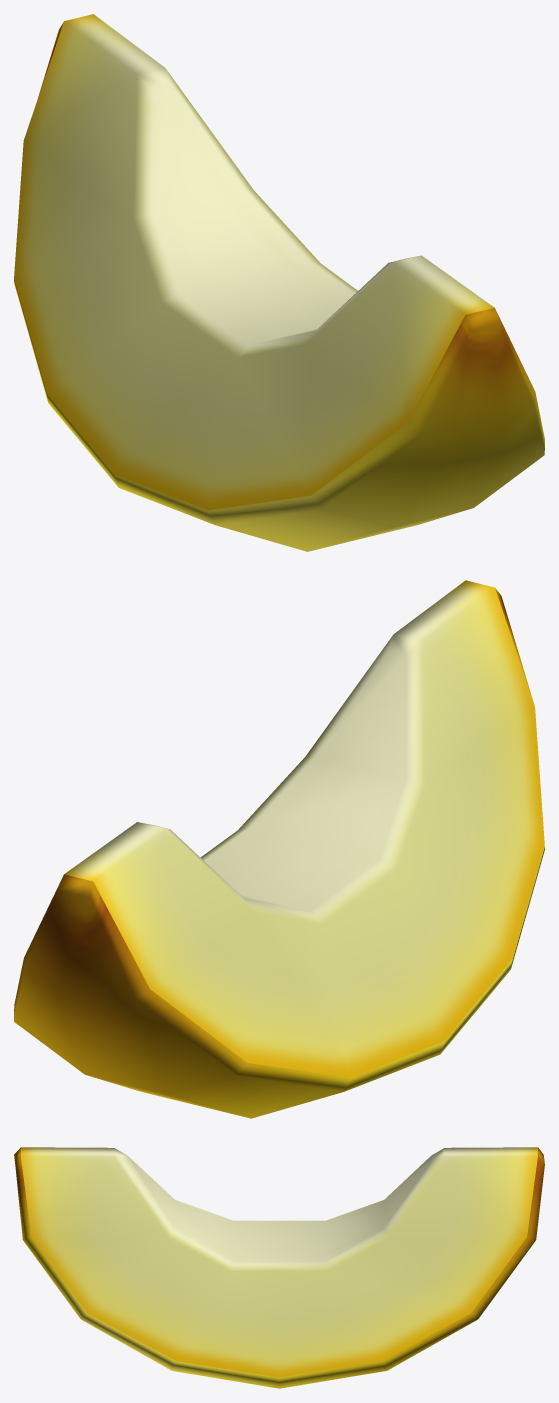
File: YellowMelon_Slice.fbx
The picture shows the model from 3 angles, top to bottom: view 1: azimuth 30°, elevation 25°; view 2: azimuth 150°, elevation 25°; view 3: azimuth 270°, elevation 25°; orthographic projection. The views are drawn at different scales.
Parts seen in each view (by area): view 1: YellowMelon_Slice; view 2: YellowMelon_Slice; view 3: YellowMelon_Slice.
Boxes of the visible parts, <box> form: YellowMelon_Slice: <box>14,14,544,551</box>; YellowMelon_Slice: <box>14,580,544,1118</box>; YellowMelon_Slice: <box>14,1147,544,1388</box>.
Bounding box in the file's own units: 26.71 × 26.24 × 57.93.
1 material, 1 textured.
